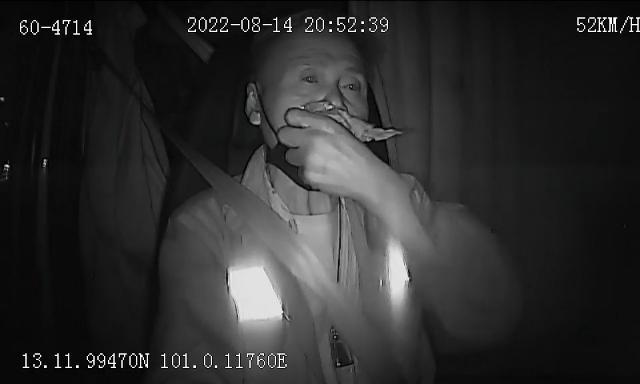Seatbelt: (181, 146, 401, 384)
